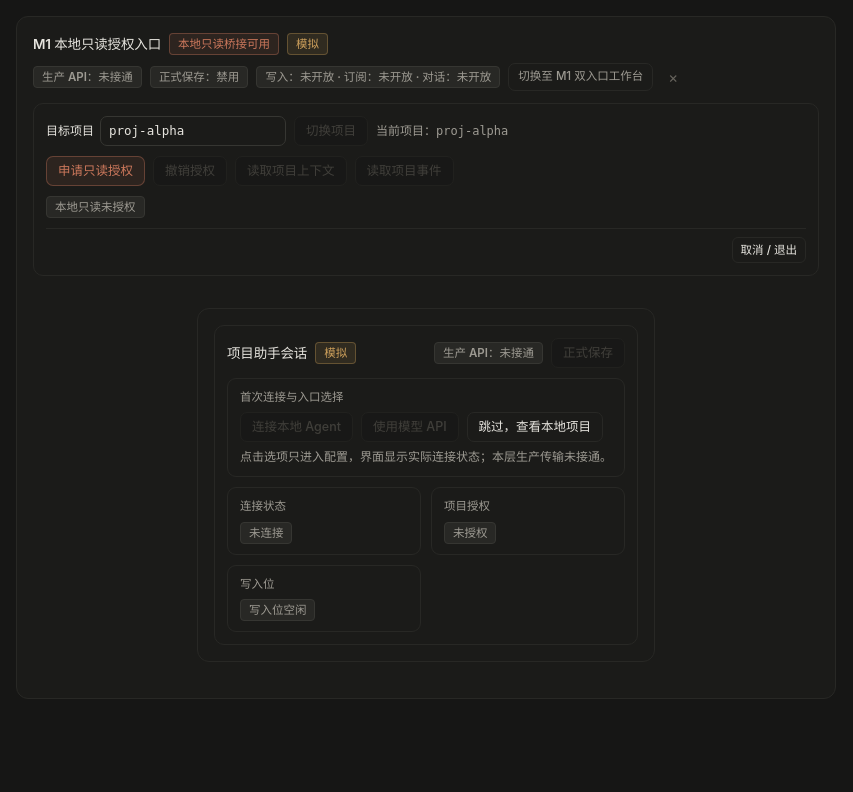
Test: ProjectAgentM1ReadonlyEntry (模拟 / synthetic: true) › 丢弃乱序与迟到的授权和读取回包，不覆盖最新结果
What coordinates should you click on to do the following:
click the button "申请只读授权"
I would click on:
 (96, 171)
Its box is [46,156,145,186].
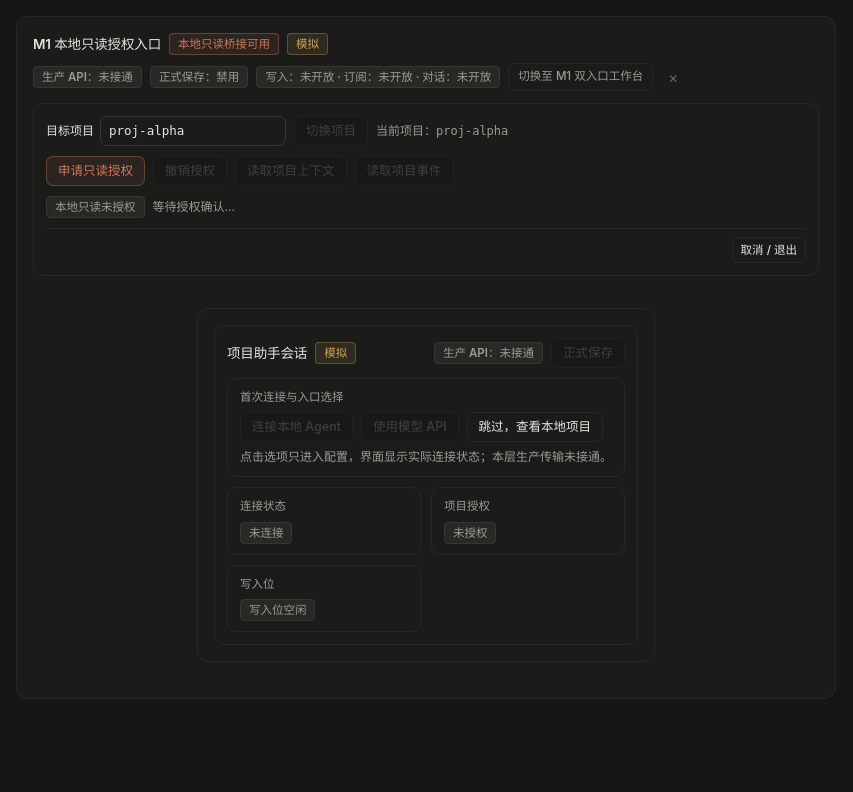
What coordinates should you click on to do the following:
click the button "申请只读授权"
I would click on:
 (96, 171)
Its box is [46,156,145,186].
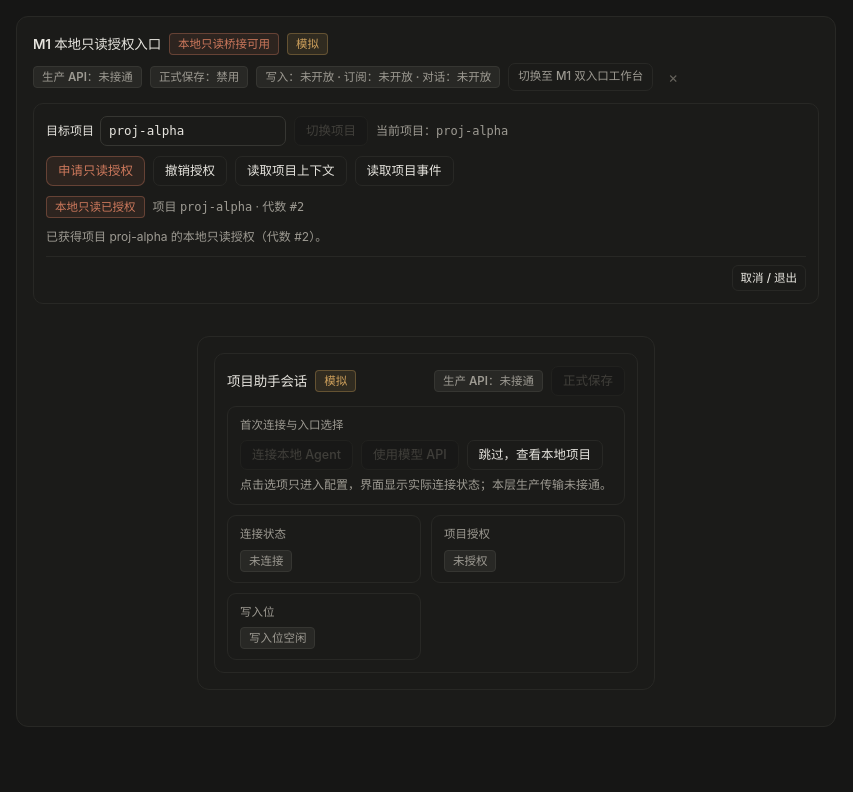
Result: the text "本地只读已授权" is shown at [46,196,144,218]
What coordinates should you click on to do the following:
click the button "读取项目上下文"
I would click on:
 (291, 171)
Its box is [235,156,346,186].
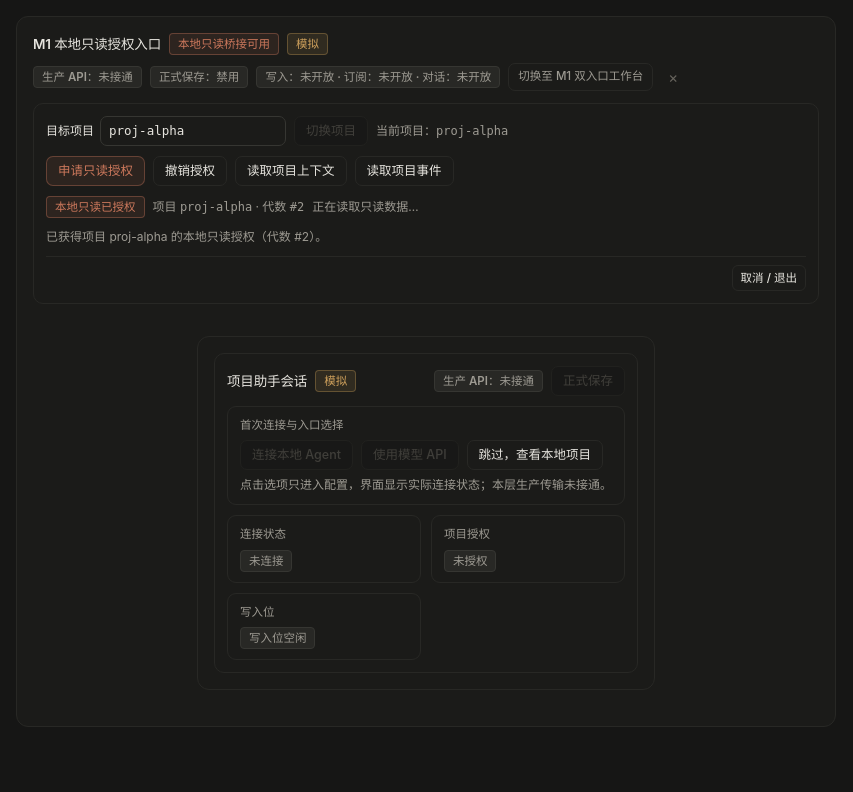
What coordinates should you click on to do the following:
click the button "读取项目上下文"
I would click on:
 (291, 171)
Its box is [235,156,346,186].
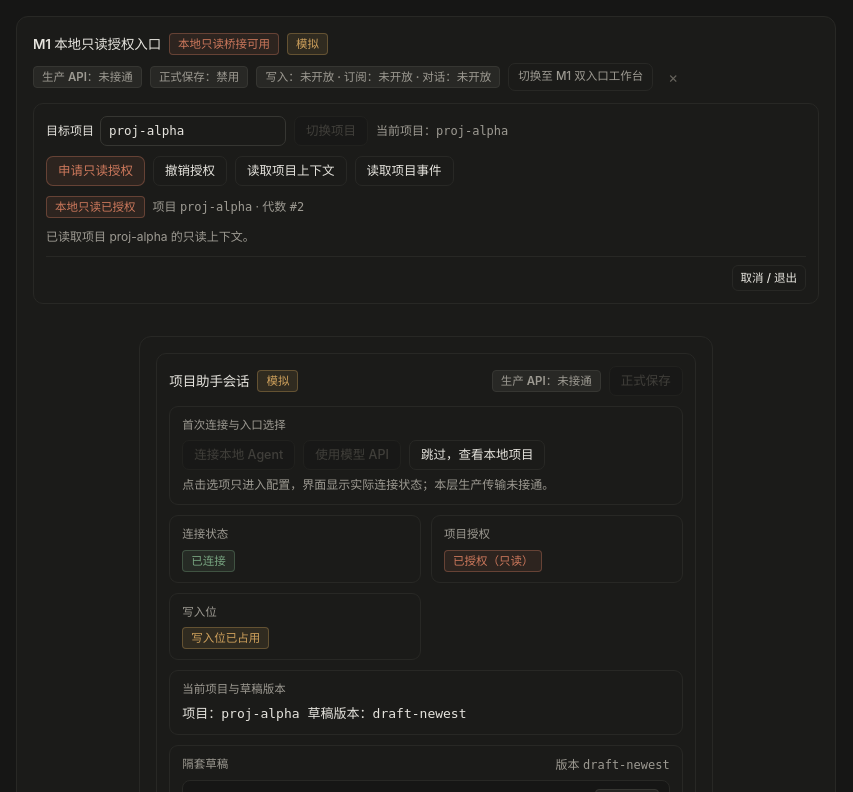
Result: the text "draft-newest" next to "草稿版本：" is shown at [373,706,466,721]
